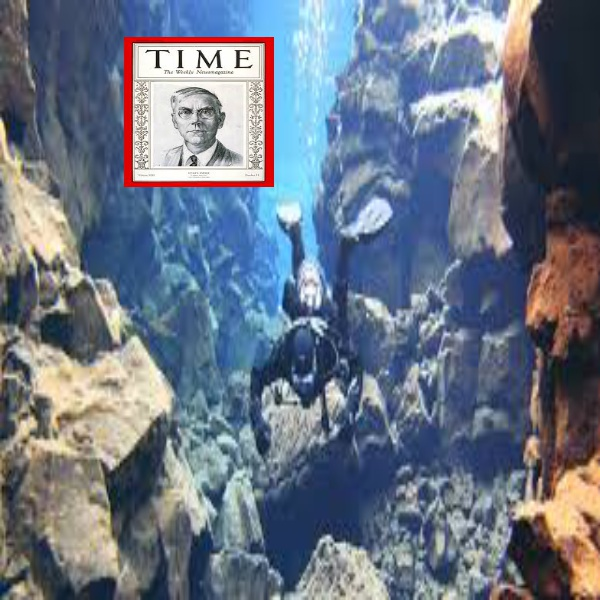time_cover: (116, 26, 271, 191)
